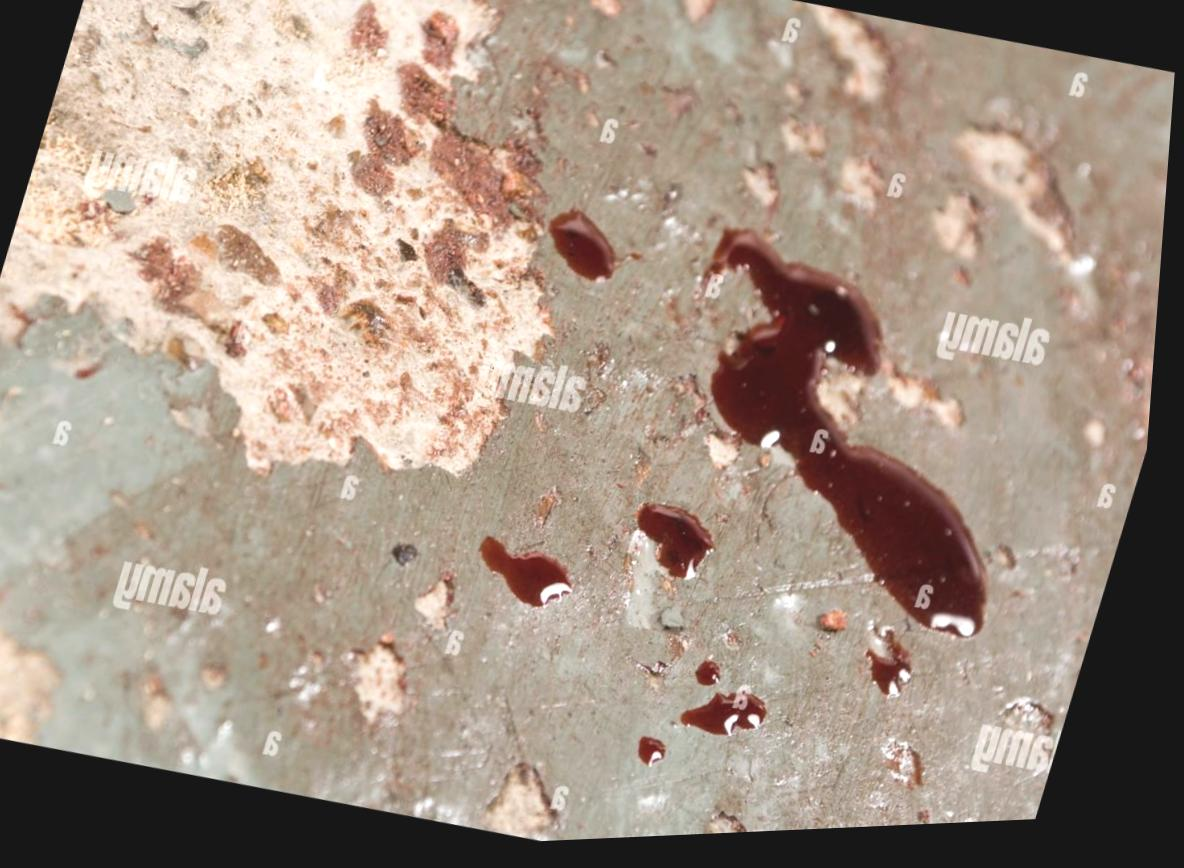Fire: (707, 235, 998, 648), (488, 542, 584, 613), (646, 509, 723, 585), (554, 215, 627, 286), (693, 699, 779, 743), (875, 638, 923, 701), (650, 742, 679, 771), (707, 668, 733, 692)
